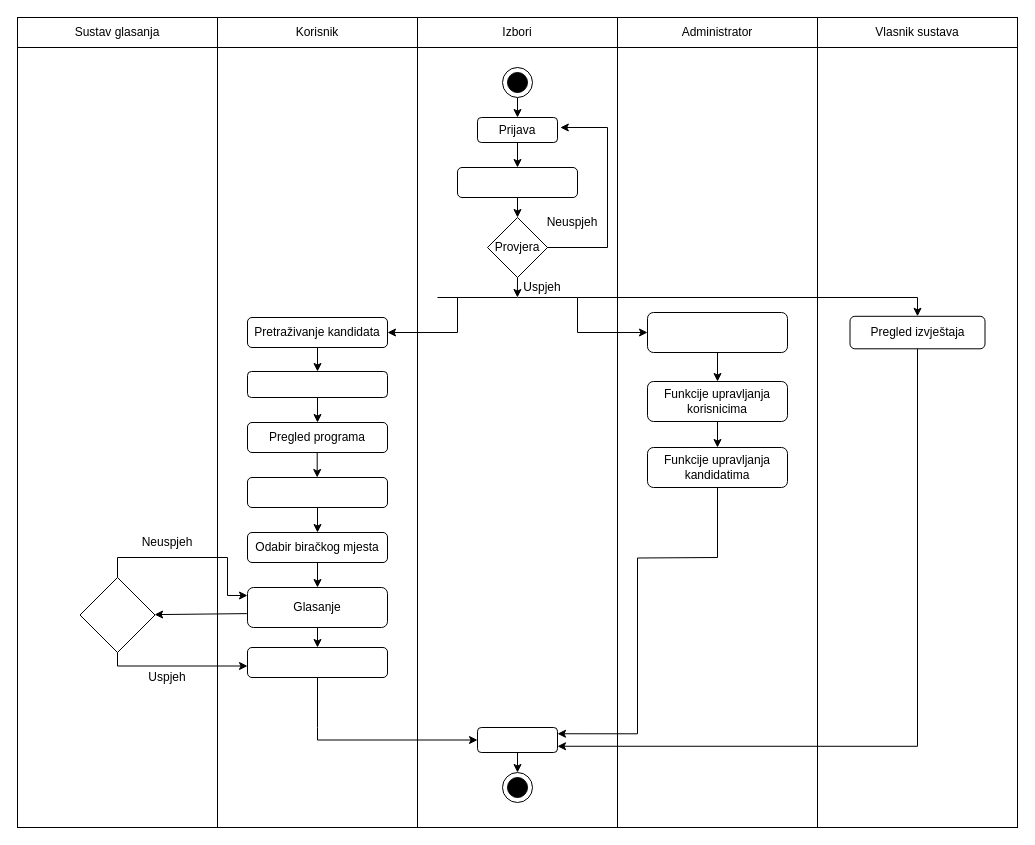
The diagram is 1035 pixels wide and 845 high, and some of its shapes have lost their labels. Each missing label, with the box of its shape:
Funkcije upravljanja sustavom: (646, 312, 788, 352)
Odjava: (476, 726, 558, 752)
Pohranjen glas: (246, 646, 388, 678)
Pretraživanje biračkih mjesta: (246, 476, 388, 508)
Pretraživanje stranaka: (246, 370, 388, 398)
Provjera validnosti: (79, 576, 155, 652)
Valjanost prijave: (456, 166, 578, 198)
